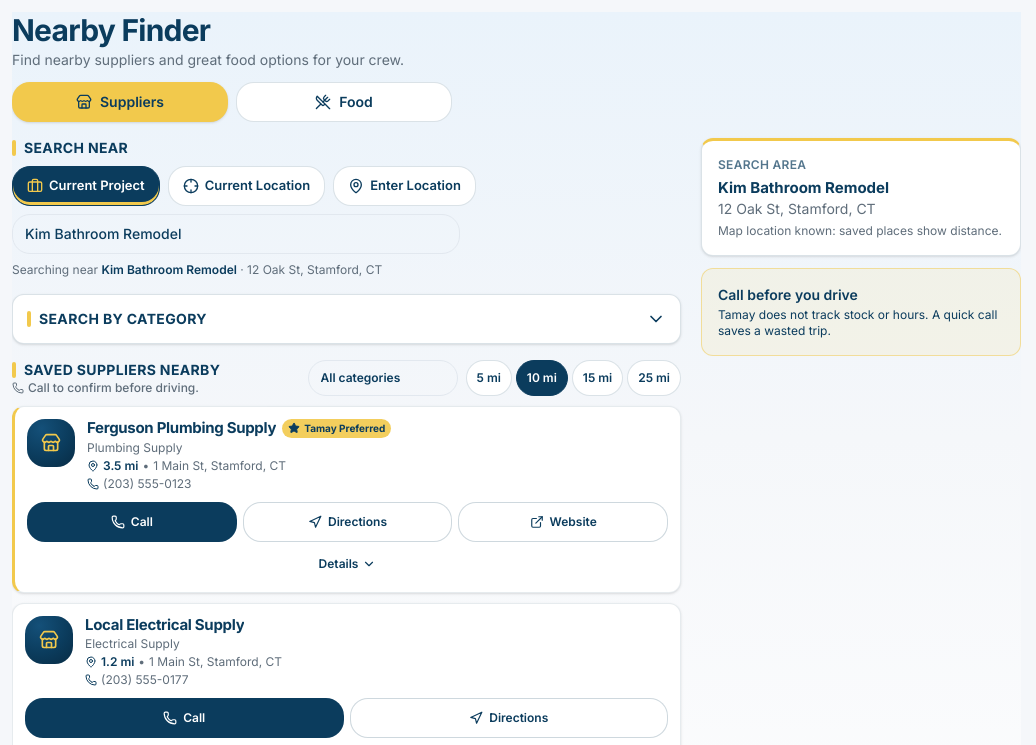
Test: screen order: where → category (with specific search inside) → saved › Search by Category is closed by default and expands into the full category menu
Step 1. Click the button "Search by Category" → (123, 318), box left=13, top=294, right=680, bottom=342
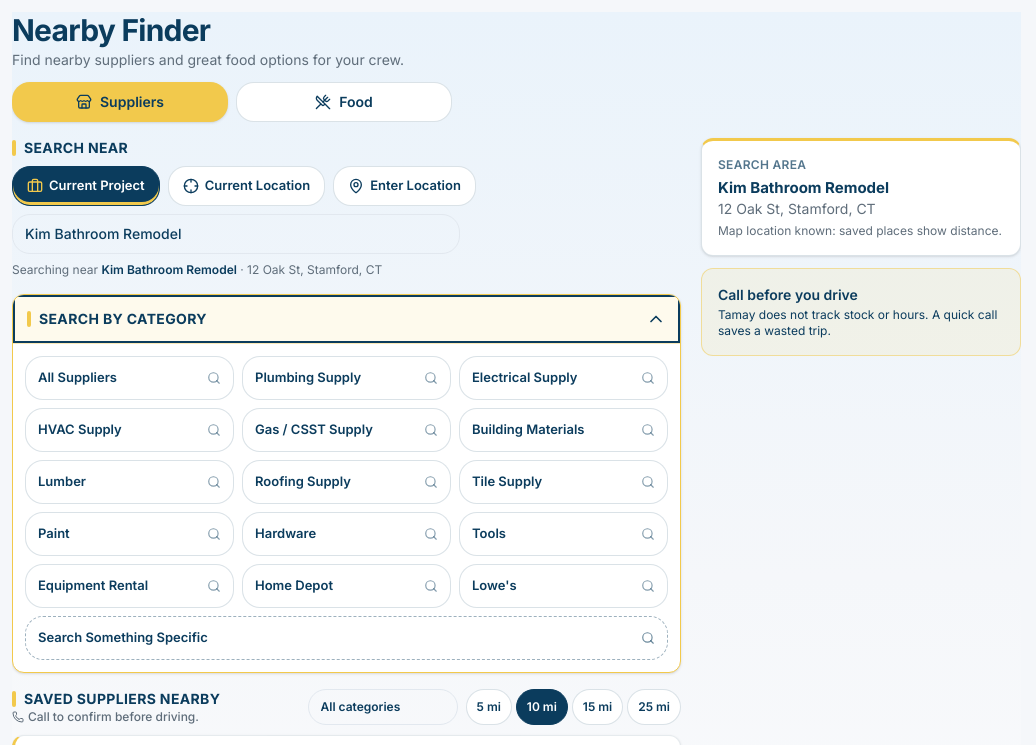
expect the button "Search by Category" is expanded: met, box left=13, top=294, right=680, bottom=342
expect the button "Search Something Specific" is shown: met, box left=25, top=616, right=668, bottom=660
